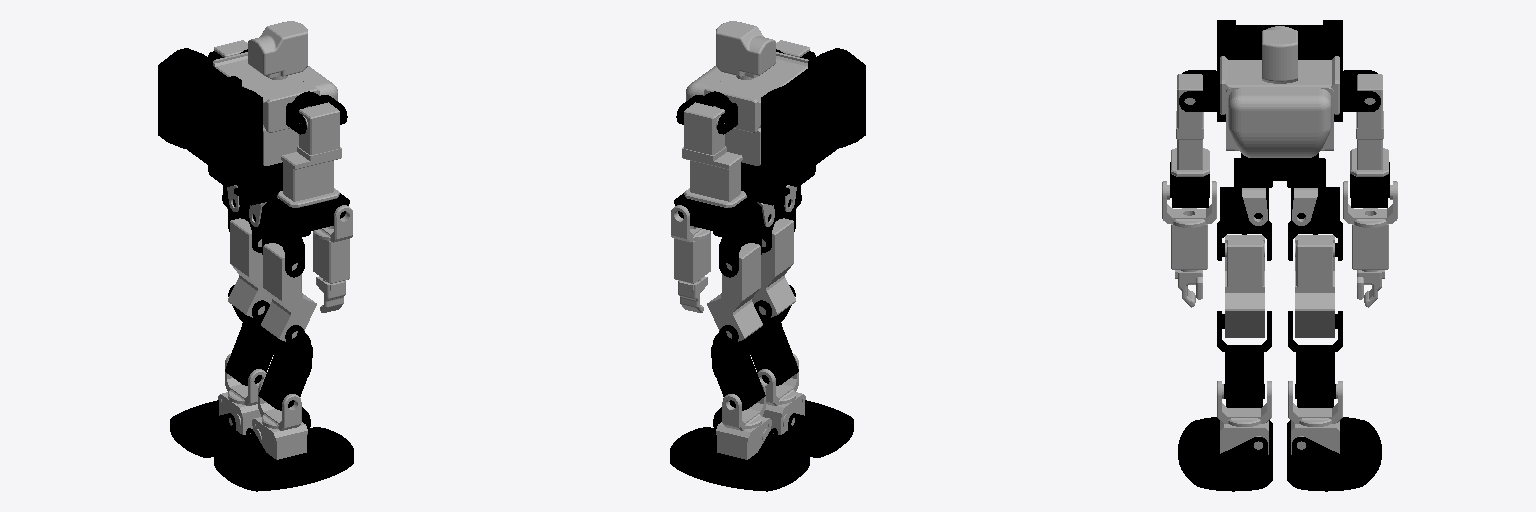
--- Render facts (derived) ---
3 views of the same robot in one strip: view 1: azimuth 30°, elevation 25°; view 2: azimuth 150°, elevation 25°; view 3: azimuth 270°, elevation 25° (orthographic).
Model khr3_001 with 25 links and 24 joints (22 revolute, 2 fixed), rooted at base_link, posed all joints at 0.
Visible links, largest first — view 1: c_chest_b, r_foot, r_upperarm, r_upperleg, r_lowerarm, l_foot, r_lowerleg, c_head_a, c_chest_c, r_ankle, l_upperleg, l_lowerleg (+7 smaller); view 2: c_chest_b, l_foot, l_upperarm, l_upperleg, l_lowerarm, r_foot, l_lowerleg, c_chest_c, c_head_a, l_ankle, r_upperleg, r_lowerleg (+7 smaller); view 3: c_chest_a, l_foot, r_foot, l_upperleg, r_upperleg, c_chest_b, l_lowerarm, r_lowerarm, l_lowerleg, r_lowerleg, c_chest_c, base_link (+13 smaller).
Boxes of the visible links, x1=… form: c_chest_b: x1=158, y1=48, x2=262, y2=184; r_foot: x1=214, y1=427, x2=353, y2=491; r_upperarm: x1=277, y1=102, x2=341, y2=207; r_upperleg: x1=261, y1=243, x2=316, y2=341; r_lowerarm: x1=313, y1=205, x2=352, y2=312; l_foot: x1=170, y1=400, x2=310, y2=457; r_lowerleg: x1=258, y1=310, x2=312, y2=410; c_head_a: x1=248, y1=21, x2=307, y2=79; c_chest_c: x1=213, y1=52, x2=319, y2=132; r_ankle: x1=252, y1=378, x2=307, y2=459; l_upperleg: x1=228, y1=218, x2=271, y2=317; l_lowerleg: x1=225, y1=285, x2=275, y2=385; c_chest_b: x1=761, y1=48, x2=865, y2=184; l_foot: x1=670, y1=427, x2=809, y2=491; l_upperarm: x1=682, y1=102, x2=746, y2=207; l_upperleg: x1=707, y1=243, x2=762, y2=341; l_lowerarm: x1=671, y1=205, x2=710, y2=312; r_foot: x1=713, y1=400, x2=853, y2=457; l_lowerleg: x1=711, y1=310, x2=765, y2=410; c_chest_c: x1=704, y1=52, x2=808, y2=132; c_head_a: x1=716, y1=21, x2=775, y2=79; l_ankle: x1=716, y1=378, x2=771, y2=459; r_upperleg: x1=752, y1=218, x2=795, y2=317; r_lowerleg: x1=748, y1=285, x2=798, y2=385; c_chest_a: x1=1226, y1=87, x2=1333, y2=157; l_foot: x1=1287, y1=417, x2=1381, y2=491; r_foot: x1=1178, y1=417, x2=1272, y2=491; l_upperleg: x1=1295, y1=235, x2=1334, y2=337; r_upperleg: x1=1225, y1=235, x2=1264, y2=337; c_chest_b: x1=1217, y1=20, x2=1342, y2=121; l_lowerarm: x1=1343, y1=181, x2=1397, y2=307; r_lowerarm: x1=1162, y1=181, x2=1216, y2=307; l_lowerleg: x1=1288, y1=311, x2=1342, y2=407; r_lowerleg: x1=1217, y1=311, x2=1271, y2=407; c_chest_c: x1=1220, y1=56, x2=1339, y2=150; base_link: x1=1234, y1=153, x2=1325, y2=187.
Bounding box of the posed robot: 0.1356 × 0.1943 × 0.3987 m (x, y, z).
Meshes: 25 distinct files referenced, 25 mesh visuals loaded (25 binary STL).

The robot description file, URDF, robot "khr3_001":
<?xml version="1.0" ?>
<!-- =================================================================================== -->
<!-- |    This document was autogenerated by xacro from khr3_001b.xacro                | -->
<!-- |    EDITING THIS FILE BY HAND IS NOT RECOMMENDED                                 | -->
<!-- =================================================================================== -->
<robot name="khr3_001">
  <material name="silver">
    <color rgba="0.700 0.700 0.700 1.000"/>
  </material>
  <material name="white">
    <color rgba="1.0 1.0 1.0 1.0"/>
  </material>
  <material name="black">
    <color rgba="0.0 0.0 0.0 1.0"/>
  </material>
  <transmission name="c_chest_yaw_tran" type="SimpleTransmission">
    <type>transmission_interface/SimpleTransmission</type>
    <joint name="c_chest_yaw">
      <hardwareInterface>hardware_interface/PositionJointInterface</hardwareInterface>
    </joint>
    <actuator name="c_chest_yaw_actr">
      <hardwareInterface>hardware_interface/PositionJointInterface</hardwareInterface>
      <mechanicalReduction>1</mechanicalReduction>
    </actuator>
  </transmission>
  <transmission name="c_head_yaw_tran" type="SimpleTransmission">
    <type>transmission_interface/SimpleTransmission</type>
    <joint name="c_head_yaw">
      <hardwareInterface>hardware_interface/PositionJointInterface</hardwareInterface>
    </joint>
    <actuator name="c_head_yaw_actr">
      <hardwareInterface>hardware_interface/PositionJointInterface</hardwareInterface>
      <mechanicalReduction>1</mechanicalReduction>
    </actuator>
  </transmission>
  <transmission name="l_shoulder_pitch_tran" type="SimpleTransmission">
    <type>transmission_interface/SimpleTransmission</type>
    <joint name="l_shoulder_pitch">
      <hardwareInterface>hardware_interface/PositionJointInterface</hardwareInterface>
    </joint>
    <actuator name="l_shoulder_pitch_actr">
      <hardwareInterface>hardware_interface/PositionJointInterface</hardwareInterface>
      <mechanicalReduction>1</mechanicalReduction>
    </actuator>
  </transmission>
  <transmission name="l_shoulder_roll_tran" type="SimpleTransmission">
    <type>transmission_interface/SimpleTransmission</type>
    <joint name="l_shoulder_roll">
      <hardwareInterface>hardware_interface/PositionJointInterface</hardwareInterface>
    </joint>
    <actuator name="l_shoulder_roll_actr">
      <hardwareInterface>hardware_interface/PositionJointInterface</hardwareInterface>
      <mechanicalReduction>1</mechanicalReduction>
    </actuator>
  </transmission>
  <transmission name="l_elbow_yaw_tran" type="SimpleTransmission">
    <type>transmission_interface/SimpleTransmission</type>
    <joint name="l_elbow_yaw">
      <hardwareInterface>hardware_interface/PositionJointInterface</hardwareInterface>
    </joint>
    <actuator name="l_elbow_yaw_actr">
      <hardwareInterface>hardware_interface/PositionJointInterface</hardwareInterface>
      <mechanicalReduction>1</mechanicalReduction>
    </actuator>
  </transmission>
  <transmission name="l_elbow_pitch_tran" type="SimpleTransmission">
    <type>transmission_interface/SimpleTransmission</type>
    <joint name="l_elbow_pitch">
      <hardwareInterface>hardware_interface/PositionJointInterface</hardwareInterface>
    </joint>
    <actuator name="l_elbow_pitch_actr">
      <hardwareInterface>hardware_interface/PositionJointInterface</hardwareInterface>
      <mechanicalReduction>1</mechanicalReduction>
    </actuator>
  </transmission>
  <transmission name="r_shoulder_pitch_tran" type="SimpleTransmission">
    <type>transmission_interface/SimpleTransmission</type>
    <joint name="r_shoulder_pitch">
      <hardwareInterface>hardware_interface/PositionJointInterface</hardwareInterface>
    </joint>
    <actuator name="r_shoulder_pitch_actr">
      <hardwareInterface>hardware_interface/PositionJointInterface</hardwareInterface>
      <mechanicalReduction>1</mechanicalReduction>
    </actuator>
  </transmission>
  <transmission name="r_shoulder_roll_tran" type="SimpleTransmission">
    <type>transmission_interface/SimpleTransmission</type>
    <joint name="r_shoulder_roll">
      <hardwareInterface>hardware_interface/PositionJointInterface</hardwareInterface>
    </joint>
    <actuator name="r_shoulder_roll_actr">
      <hardwareInterface>hardware_interface/PositionJointInterface</hardwareInterface>
      <mechanicalReduction>1</mechanicalReduction>
    </actuator>
  </transmission>
  <transmission name="r_elbow_yaw_tran" type="SimpleTransmission">
    <type>transmission_interface/SimpleTransmission</type>
    <joint name="r_elbow_yaw">
      <hardwareInterface>hardware_interface/PositionJointInterface</hardwareInterface>
    </joint>
    <actuator name="r_elbow_yaw_actr">
      <hardwareInterface>hardware_interface/PositionJointInterface</hardwareInterface>
      <mechanicalReduction>1</mechanicalReduction>
    </actuator>
  </transmission>
  <transmission name="r_elbow_pitch_tran" type="SimpleTransmission">
    <type>transmission_interface/SimpleTransmission</type>
    <joint name="r_elbow_pitch">
      <hardwareInterface>hardware_interface/PositionJointInterface</hardwareInterface>
    </joint>
    <actuator name="r_elbow_pitch_actr">
      <hardwareInterface>hardware_interface/PositionJointInterface</hardwareInterface>
      <mechanicalReduction>1</mechanicalReduction>
    </actuator>
  </transmission>
  <transmission name="l_hipjoint_yaw_tran" type="SimpleTransmission">
    <type>transmission_interface/SimpleTransmission</type>
    <joint name="l_hipjoint_yaw">
      <hardwareInterface>hardware_interface/PositionJointInterface</hardwareInterface>
    </joint>
    <actuator name="l_hipjoint_yaw_actr">
      <hardwareInterface>hardware_interface/PositionJointInterface</hardwareInterface>
      <mechanicalReduction>1</mechanicalReduction>
    </actuator>
  </transmission>
  <transmission name="l_hipjoint_roll_tran" type="SimpleTransmission">
    <type>transmission_interface/SimpleTransmission</type>
    <joint name="l_hipjoint_roll">
      <hardwareInterface>hardware_interface/PositionJointInterface</hardwareInterface>
    </joint>
    <actuator name="l_hipjoint_roll_actr">
      <hardwareInterface>hardware_interface/PositionJointInterface</hardwareInterface>
      <mechanicalReduction>1</mechanicalReduction>
    </actuator>
  </transmission>
  <transmission name="l_hipjoint_pitch_tran" type="SimpleTransmission">
    <type>transmission_interface/SimpleTransmission</type>
    <joint name="l_hipjoint_pitch">
      <hardwareInterface>hardware_interface/PositionJointInterface</hardwareInterface>
    </joint>
    <actuator name="l_hipjoint_pitch_actr">
      <hardwareInterface>hardware_interface/PositionJointInterface</hardwareInterface>
      <mechanicalReduction>1</mechanicalReduction>
    </actuator>
  </transmission>
  <transmission name="l_knee_pitch_tran" type="SimpleTransmission">
    <type>transmission_interface/SimpleTransmission</type>
    <joint name="l_knee_pitch">
      <hardwareInterface>hardware_interface/PositionJointInterface</hardwareInterface>
    </joint>
    <actuator name="l_knee_pitch_actr">
      <hardwareInterface>hardware_interface/PositionJointInterface</hardwareInterface>
      <mechanicalReduction>1</mechanicalReduction>
    </actuator>
  </transmission>
  <transmission name="l_ankle_pitch_tran" type="SimpleTransmission">
    <type>transmission_interface/SimpleTransmission</type>
    <joint name="l_ankle_pitch">
      <hardwareInterface>hardware_interface/PositionJointInterface</hardwareInterface>
    </joint>
    <actuator name="l_ankle_pitch_actr">
      <hardwareInterface>hardware_interface/PositionJointInterface</hardwareInterface>
      <mechanicalReduction>1</mechanicalReduction>
    </actuator>
  </transmission>
  <transmission name="l_ankle_roll_tran" type="SimpleTransmission">
    <type>transmission_interface/SimpleTransmission</type>
    <joint name="l_ankle_roll">
      <hardwareInterface>hardware_interface/PositionJointInterface</hardwareInterface>
    </joint>
    <actuator name="l_ankle_roll_actr">
      <hardwareInterface>hardware_interface/PositionJointInterface</hardwareInterface>
      <mechanicalReduction>1</mechanicalReduction>
    </actuator>
  </transmission>
  <transmission name="r_hipjoint_yaw_tran" type="SimpleTransmission">
    <type>transmission_interface/SimpleTransmission</type>
    <joint name="r_hipjoint_yaw">
      <hardwareInterface>hardware_interface/PositionJointInterface</hardwareInterface>
    </joint>
    <actuator name="r_hipjoint_yaw_actr">
      <hardwareInterface>hardware_interface/PositionJointInterface</hardwareInterface>
      <mechanicalReduction>1</mechanicalReduction>
    </actuator>
  </transmission>
  <transmission name="r_hipjoint_roll_tran" type="SimpleTransmission">
    <type>transmission_interface/SimpleTransmission</type>
    <joint name="r_hipjoint_roll">
      <hardwareInterface>hardware_interface/PositionJointInterface</hardwareInterface>
    </joint>
    <actuator name="r_hipjoint_roll_actr">
      <hardwareInterface>hardware_interface/PositionJointInterface</hardwareInterface>
      <mechanicalReduction>1</mechanicalReduction>
    </actuator>
  </transmission>
  <transmission name="r_hipjoint_pitch_tran" type="SimpleTransmission">
    <type>transmission_interface/SimpleTransmission</type>
    <joint name="r_hipjoint_pitch">
      <hardwareInterface>hardware_interface/PositionJointInterface</hardwareInterface>
    </joint>
    <actuator name="r_hipjoint_pitch_actr">
      <hardwareInterface>hardware_interface/PositionJointInterface</hardwareInterface>
      <mechanicalReduction>1</mechanicalReduction>
    </actuator>
  </transmission>
  <transmission name="r_knee_pitch_tran" type="SimpleTransmission">
    <type>transmission_interface/SimpleTransmission</type>
    <joint name="r_knee_pitch">
      <hardwareInterface>hardware_interface/PositionJointInterface</hardwareInterface>
    </joint>
    <actuator name="r_knee_pitch_actr">
      <hardwareInterface>hardware_interface/PositionJointInterface</hardwareInterface>
      <mechanicalReduction>1</mechanicalReduction>
    </actuator>
  </transmission>
  <transmission name="r_ankle_pitch_tran" type="SimpleTransmission">
    <type>transmission_interface/SimpleTransmission</type>
    <joint name="r_ankle_pitch">
      <hardwareInterface>hardware_interface/PositionJointInterface</hardwareInterface>
    </joint>
    <actuator name="r_ankle_pitch_actr">
      <hardwareInterface>hardware_interface/PositionJointInterface</hardwareInterface>
      <mechanicalReduction>1</mechanicalReduction>
    </actuator>
  </transmission>
  <transmission name="r_ankle_roll_tran" type="SimpleTransmission">
    <type>transmission_interface/SimpleTransmission</type>
    <joint name="r_ankle_roll">
      <hardwareInterface>hardware_interface/PositionJointInterface</hardwareInterface>
    </joint>
    <actuator name="r_ankle_roll_actr">
      <hardwareInterface>hardware_interface/PositionJointInterface</hardwareInterface>
      <mechanicalReduction>1</mechanicalReduction>
    </actuator>
  </transmission>
  <!-- <gazebo>
  <plugin name="control" filename="libgazebo_ros_control.so"/>
</gazebo> -->
  <gazebo>
    <!-- Do I have to write it down? -->
    <plugin filename="libgazebo_ros_control.so" name="gazebo_ros_control">
      <robotNamespace>/khr3_001</robotNamespace>
      <robotSimType>gazebo_ros_control/DefaultRobotHWSim</robotSimType>
    </plugin>
  </gazebo>
  <gazebo reference="base_link">
    <material>Gazebo/Silver</material>
    <mu1>0.2</mu1>
    <mu2>0.2</mu2>
    <selfCollide>true</selfCollide>
    <gravity>true</gravity>
  </gazebo>
  <gazebo reference="c_chest_c">
    <material>Gazebo/Silver</material>
    <mu1>0.2</mu1>
    <mu2>0.2</mu2>
    <selfCollide>true</selfCollide>
  </gazebo>
  <gazebo reference="c_chest_b">
    <material>Gazebo/Silver</material>
    <mu1>0.2</mu1>
    <mu2>0.2</mu2>
    <selfCollide>true</selfCollide>
  </gazebo>
  <gazebo reference="c_chest_a">
    <material>Gazebo/Silver</material>
    <mu1>0.2</mu1>
    <mu2>0.2</mu2>
    <selfCollide>true</selfCollide>
  </gazebo>
  <gazebo reference="c_head_a">
    <material>Gazebo/Silver</material>
    <mu1>0.2</mu1>
    <mu2>0.2</mu2>
    <selfCollide>true</selfCollide>
  </gazebo>
  <gazebo reference="l_shoulder">
    <material>Gazebo/Silver</material>
    <mu1>0.2</mu1>
    <mu2>0.2</mu2>
    <selfCollide>true</selfCollide>
  </gazebo>
  <gazebo reference="l_upperarm">
    <material>Gazebo/Silver</material>
    <mu1>0.2</mu1>
    <mu2>0.2</mu2>
    <selfCollide>true</selfCollide>
  </gazebo>
  <gazebo reference="l_elbow">
    <material>Gazebo/Silver</material>
    <mu1>0.2</mu1>
    <mu2>0.2</mu2>
    <selfCollide>true</selfCollide>
  </gazebo>
  <gazebo reference="l_lowerarm">
    <material>Gazebo/Silver</material>
    <mu1>0.2</mu1>
    <mu2>0.2</mu2>
    <selfCollide>true</selfCollide>
  </gazebo>
  <gazebo reference="r_shoulder">
    <material>Gazebo/Silver</material>
    <mu1>0.2</mu1>
    <mu2>0.2</mu2>
    <selfCollide>true</selfCollide>
  </gazebo>
  <gazebo reference="r_upperarm">
    <material>Gazebo/Silver</material>
    <mu1>0.2</mu1>
    <mu2>0.2</mu2>
    <selfCollide>true</selfCollide>
  </gazebo>
  <gazebo reference="r_elbow">
    <material>Gazebo/Silver</material>
    <mu1>0.2</mu1>
    <mu2>0.2</mu2>
    <selfCollide>true</selfCollide>
  </gazebo>
  <gazebo reference="r_lowerarm">
    <material>Gazebo/Silver</material>
    <mu1>0.2</mu1>
    <mu2>0.2</mu2>
    <selfCollide>true</selfCollide>
  </gazebo>
  <gazebo reference="l_hipjointupper">
    <material>Gazebo/Silver</material>
    <mu1>0.2</mu1>
    <mu2>0.2</mu2>
    <selfCollide>true</selfCollide>
  </gazebo>
  <gazebo reference="l_hipjointlower">
    <material>Gazebo/Silver</material>
    <mu1>0.2</mu1>
    <mu2>0.2</mu2>
    <selfCollide>true</selfCollide>
  </gazebo>
  <gazebo reference="l_upperleg">
    <material>Gazebo/Silver</material>
    <mu1>0.2</mu1>
    <mu2>0.2</mu2>
    <selfCollide>true</selfCollide>
  </gazebo>
  <gazebo reference="l_lowerleg">
    <material>Gazebo/Silver</material>
    <mu1>0.2</mu1>
    <mu2>0.2</mu2>
    <selfCollide>true</selfCollide>
  </gazebo>
  <gazebo reference="l_ankle">
    <material>Gazebo/Silver</material>
    <mu1>0.2</mu1>
    <mu2>0.2</mu2>
    <selfCollide>true</selfCollide>
  </gazebo>
  <gazebo reference="l_foot">
    <material>Gazebo/Silver</material>
    <mu1>1</mu1>
    <mu2>1</mu2>
    <selfCollide>true</selfCollide>
  </gazebo>
  <gazebo reference="r_hipjointupper">
    <material>Gazebo/Silver</material>
    <mu1>0.2</mu1>
    <mu2>0.2</mu2>
    <selfCollide>true</selfCollide>
  </gazebo>
  <gazebo reference="r_hipjointlower">
    <material>Gazebo/Silver</material>
    <mu1>0.2</mu1>
    <mu2>0.2</mu2>
    <selfCollide>true</selfCollide>
  </gazebo>
  <gazebo reference="r_upperleg">
    <material>Gazebo/Silver</material>
    <mu1>0.2</mu1>
    <mu2>0.2</mu2>
    <selfCollide>true</selfCollide>
  </gazebo>
  <gazebo reference="r_lowerleg">
    <material>Gazebo/Silver</material>
    <mu1>0.2</mu1>
    <mu2>0.2</mu2>
    <selfCollide>true</selfCollide>
  </gazebo>
  <gazebo reference="r_ankle">
    <material>Gazebo/Silver</material>
    <mu1>0.2</mu1>
    <mu2>0.2</mu2>
    <selfCollide>true</selfCollide>
  </gazebo>
  <gazebo reference="r_foot">
    <material>Gazebo/Silver</material>
    <mu1>1</mu1>
    <mu2>1</mu2>
    <selfCollide>true</selfCollide>
  </gazebo>
  <!-- Description of robot -->
  <link name="base_link">
    <inertial>
      <origin rpy="0 0 0" xyz="-0.0004860989233068058 0.009532810756286874 0.01338898"/>
      <mass value="0.26484"/>
      <inertia ixx="6.3e-05" ixy="0.0" ixz="-0.0" iyy="3.6e-05" iyz="-0.0" izz="6.8e-05"/>
    </inertial>
    <visual>
      <origin rpy="0 0 0" xyz="0 0 0"/>
      <geometry>
        <mesh filename="package://khr3_fixed/meshes/base_link.stl" scale="0.001 0.001 0.001"/>
      </geometry>
      <material name="black"/>
    </visual>
    <collision>
      <origin rpy="0 0 0" xyz="0 0 0"/>
      <geometry>
        <mesh filename="package://khr3_fixed/meshes/base_link.stl" scale="0.001 0.001 0.001"/>
      </geometry>
    </collision>
  </link>
  <link name="c_chest_c">
    <inertial>
      <origin rpy="0 0 0" xyz="-9.07564737343998e-05 -4.299695898109246e-08 0.04371354326547944"/>
      <mass value="0.18589"/>
      <inertia ixx="0.000158" ixy="0.0" ixz="0.0" iyy="6.6e-05" iyz="-0.0" izz="0.000176"/>
    </inertial>
    <visual>
      <origin rpy="0 0 0" xyz="0 0 0"/>
      <geometry>
        <mesh filename="package://khr3_fixed/meshes/c_chest_c.stl" scale="0.001 0.001 0.001"/>
      </geometry>
      <material name="silver"/>
    </visual>
    <collision>
      <origin rpy="0 0 0" xyz="0 0 0"/>
      <geometry>
        <mesh filename="package://khr3_fixed/meshes/c_chest_c.stl" scale="0.001 0.001 0.001"/>
      </geometry>
    </collision>
  </link>
  <link name="c_chest_b">
    <inertial>
      <origin rpy="0 0 0" xyz="-0.027362562372520854 2.840518613928325e-06 0.004477857770456339"/>
      <mass value="0.08659748664099903"/>
      <inertia ixx="0.000118" ixy="0.0" ixz="0.0" iyy="5.2e-05" iyz="0.0" izz="9.8e-05"/>
    </inertial>
    <visual>
      <origin rpy="0 0 0" xyz="0 0 0"/>
      <geometry>
        <mesh filename="package://khr3_fixed/meshes/c_chest_b.stl" scale="0.001 0.001 0.001"/>
      </geometry>
      <material name="black"/>
    </visual>
    <collision>
      <origin rpy="0 0 0" xyz="0 0 0"/>
      <geometry>
        <mesh filename="package://khr3_fixed/meshes/c_chest_b.stl" scale="0.001 0.001 0.001"/>
      </geometry>
    </collision>
  </link>
  <link name="c_chest_a">
    <inertial>
      <origin rpy="0 0 0" xyz="0.004546800382866728 -4.1161282904669805e-08 -0.0024788373011201403"/>
      <mass value="0.033763915303500654"/>
      <inertia ixx="3.4e-05" ixy="-0.0" ixz="-3e-06" iyy="1.9e-05" iyz="0.0" izz="3.6e-05"/>
    </inertial>
    <visual>
      <origin rpy="0 0 0" xyz="0 0 0"/>
      <geometry>
        <mesh filename="package://khr3_fixed/meshes/c_chest_a.stl" scale="0.001 0.001 0.001"/>
      </geometry>
      <material name="silver"/>
    </visual>
    <collision>
      <origin rpy="0 0 0" xyz="0 0 0"/>
      <geometry>
        <mesh filename="package://khr3_fixed/meshes/c_chest_a.stl" scale="0.001 0.001 0.001"/>
      </geometry>
    </collision>
  </link>
  <link name="c_head_a">
    <inertial>
      <origin rpy="0 0 0" xyz="0.003079433021973575 -4.3073247395913894e-08 0.022888877386975093"/>
      <mass value="0.012778861662402228"/>
      <inertia ixx="2e-06" ixy="-0.0" ixz="-0.0" iyy="4e-06" iyz="0.0" izz="3e-06"/>
    </inertial>
    <visual>
      <origin rpy="0 0 0" xyz="0 0 0"/>
      <geometry>
        <mesh filename="package://khr3_fixed/meshes/c_head_a.stl" scale="0.001 0.001 0.001"/>
      </geometry>
      <material name="silver"/>
    </visual>
    <collision>
      <origin rpy="0 0 0" xyz="0 0 0"/>
      <geometry>
        <mesh filename="package://khr3_fixed/meshes/c_head_a.stl" scale="0.001 0.001 0.001"/>
      </geometry>
    </collision>
  </link>
  <link name="l_shoulder">
    <inertial>
      <origin rpy="0 0 0" xyz="0.00016940373751364937 0.008747288709026461 3.2529534621517087e-14"/>
      <mass value="0.012120367829212707"/>
      <inertia ixx="1e-06" ixy="-0.0" ixz="0.0" iyy="4e-06" iyz="0.0" izz="4e-06"/>
    </inertial>
    <visual>
      <origin rpy="0 0 0" xyz="0 0 0"/>
      <geometry>
        <mesh filename="package://khr3_fixed/meshes/l_shoulder_v5.stl" scale="0.001 0.001 0.001"/>
      </geometry>
      <material name="black"/>
    </visual>
    <collision>
      <origin rpy="0 0 0" xyz="0 0 0"/>
      <geometry>
        <mesh filename="package://khr3_fixed/meshes/l_shoulder_v5.stl" scale="0.001 0.001 0.001"/>
      </geometry>
    </collision>
  </link>
  <link name="l_upperarm">
    <inertial>
      <origin rpy="0 0 0" xyz="-0.02256531849252991 -4.2996961130414846e-08 -0.03564584515249991"/>
      <mass value="0.09077338253436838"/>
      <inertia ixx="5.4e-05" ixy="0.0" ixz="-1e-05" iyy="6.4e-05" iyz="0.0" izz="1.8e-05"/>
    </inertial>
    <visual>
      <origin rpy="0 0 0" xyz="0 0 0"/>
      <geometry>
        <mesh filename="package://khr3_fixed/meshes/l_upperarm_v4.stl" scale="0.001 0.001 0.001"/>
      </geometry>
      <material name="silver"/>
    </visual>
    <collision>
      <origin rpy="0 0 0" xyz="0 0 0"/>
      <geometry>
        <mesh filename="package://khr3_fixed/meshes/l_upperarm_v4.stl" scale="0.001 0.001 0.001"/>
      </geometry>
    </collision>
  </link>
  <link name="l_elbow">
    <inertial>
      <origin rpy="0 0 0" xyz="5.745484729775818e-05 -4.299695875731313e-08 -0.012574921301198305"/>
      <mass value="0.044771268874731644"/>
      <inertia ixx="6e-06" ixy="0.0" ixz="0.0" iyy="8e-06" iyz="-0.0" izz="1e-05"/>
    </inertial>
    <visual>
      <origin rpy="0 0 0" xyz="0 0 0"/>
      <geometry>
        <mesh filename="package://khr3_fixed/meshes/l_elbow_v4.stl" scale="0.001 0.001 0.001"/>
      </geometry>
      <material name="black"/>
    </visual>
    <collision>
      <origin rpy="0 0 0" xyz="0 0 0"/>
      <geometry>
        <mesh filename="package://khr3_fixed/meshes/l_elbow_v4.stl" scale="0.001 0.001 0.001"/>
      </geometry>
    </collision>
  </link>
  <link name="l_lowerarm">
    <inertial>
      <origin rpy="0 0 0" xyz="0.00017641899363149416 -0.0156924274010031 -0.04569649848488025"/>
      <mass value="0.02983803452815617"/>
      <inertia ixx="1.8e-05" ixy="0.0" ixz="0.0" iyy="1.6e-05" iyz="-0.0" izz="4e-06"/>
    </inertial>
    <visual>
      <origin rpy="0 0 0" xyz="0 0 0"/>
      <geometry>
        <mesh filename="package://khr3_fixed/meshes/l_lowerarm_v7.stl" scale="0.001 0.001 0.001"/>
      </geometry>
      <material name="silver"/>
    </visual>
    <collision>
      <origin rpy="0 0 0" xyz="0 0 0"/>
      <geometry>
        <mesh filename="package://khr3_fixed/meshes/l_lowerarm_v7.stl" scale="0.001 0.001 0.001"/>
      </geometry>
    </collision>
  </link>
  <link name="r_shoulder">
    <inertial>
      <origin rpy="0 0 0" xyz="0.00016940373733528857 -0.008747374702943796 5.306866057708248e-14"/>
      <mass value="0.01212036782921271"/>
      <inertia ixx="1e-06" ixy="0.0" ixz="-0.0" iyy="4e-06" iyz="0.0" izz="4e-06"/>
    </inertial>
    <visual>
      <origin rpy="0 0 0" xyz="0 0 0"/>
      <geometry>
        <mesh filename="package://khr3_fixed/meshes/r_shoulder_v4.stl" scale="0.001 0.001 0.001"/>
      </geometry>
      <material name="black"/>
    </visual>
    <collision>
      <origin rpy="0 0 0" xyz="0 0 0"/>
      <geometry>
        <mesh filename="package://khr3_fixed/meshes/r_shoulder_v4.stl" scale="0.001 0.001 0.001"/>
      </geometry>
    </collision>
  </link>
  <link name="r_upperarm">
    <inertial>
      <origin rpy="0 0 0" xyz="-0.022565318492529688 -4.2996961074903695e-08 -0.03564584515249991"/>
      <mass value="0.09077338253436838"/>
      <inertia ixx="5.4e-05" ixy="0.0" ixz="-1e-05" iyy="6.4e-05" iyz="0.0" izz="1.8e-05"/>
    </inertial>
    <visual>
      <origin rpy="0 0 0" xyz="0 0 0"/>
      <geometry>
        <mesh filename="package://khr3_fixed/meshes/r_upperarm_v3.stl" scale="0.001 0.001 0.001"/>
      </geometry>
      <material name="silver"/>
    </visual>
    <collision>
      <origin rpy="0 0 0" xyz="0 0 0"/>
      <geometry>
        <mesh filename="package://khr3_fixed/meshes/r_upperarm_v3.stl" scale="0.001 0.001 0.001"/>
      </geometry>
    </collision>
  </link>
  <link name="r_elbow">
    <inertial>
      <origin rpy="0 0 0" xyz="5.7454847330103836e-05 -4.2996958674046404e-08 -0.012574921301198305"/>
      <mass value="0.044771268874731526"/>
      <inertia ixx="6e-06" ixy="0.0" ixz="0.0" iyy="8e-06" iyz="-0.0" izz="1e-05"/>
    </inertial>
    <visual>
      <origin rpy="0 0 0" xyz="0 0 0"/>
      <geometry>
        <mesh filename="package://khr3_fixed/meshes/r_elbow_v4.stl" scale="0.001 0.001 0.001"/>
      </geometry>
      <material name="black"/>
    </visual>
    <collision>
      <origin rpy="0 0 0" xyz="0 0 0"/>
      <geometry>
        <mesh filename="package://khr3_fixed/meshes/r_elbow_v4.stl" scale="0.001 0.001 0.001"/>
      </geometry>
    </collision>
  </link>
  <link name="r_lowerarm">
    <inertial>
      <origin rpy="0 0 0" xyz="0.00017641899364317232 0.01569234140705124 -0.04569649848495705"/>
      <mass value="0.029838034528201704"/>
      <inertia ixx="1.8e-05" ixy="-0.0" ixz="0.0" iyy="1.6e-05" iyz="0.0" izz="4e-06"/>
    </inertial>
    <visual>
      <origin rpy="0 0 0" xyz="0 0 0"/>
      <geometry>
        <mesh filename="package://khr3_fixed/meshes/r_lowerarm_v5.stl" scale="0.001 0.001 0.001"/>
      </geometry>
      <material name="silver"/>
    </visual>
    <collision>
      <origin rpy="0 0 0" xyz="0 0 0"/>
      <geometry>
        <mesh filename="package://khr3_fixed/meshes/r_lowerarm_v5.stl" scale="0.001 0.001 0.001"/>
      </geometry>
    </collision>
  </link>
  <link name="l_hipjointupper">
    <inertial>
      <origin rpy="0 0 0" xyz="3.293764515496962e-05 -0.0011113374509284651 -0.007400199793976242"/>
      <mass value="0.005702042499396512"/>
      <inertia ixx="1e-06" ixy="0.0" ixz="0.0" iyy="2e-06" iyz="-0.0" izz="2e-06"/>
    </inertial>
    <visual>
      <origin rpy="0 0 0" xyz="0 0 0"/>
      <geometry>
        <mesh filename="package://khr3_fixed/meshes/l_hipjointupper_v4.stl" scale="0.001 0.001 0.001"/>
      </geometry>
      <material name="silver"/>
    </visual>
    <collision>
      <origin rpy="0 0 0" xyz="0 0 0"/>
      <geometry>
        <mesh filename="package://khr3_fixed/meshes/l_hipjointupper_v4.stl" scale="0.001 0.001 0.001"/>
      </geometry>
    </collision>
  </link>
  <link name="l_hipjointlower">
    <inertial>
      <origin rpy="0 0 0" xyz="-0.016250242301438553 0.011463181378816707 -0.0066539419866288585"/>
      <mass value="0.06689532645492419"/>
      <inertia ixx="2e-05" ixy="0.0" ixz="-0.0" iyy="1.4e-05" iyz="0.0" izz="1.5e-05"/>
    </inertial>
    <visual>
      <origin rpy="0 0 0" xyz="0 0 0"/>
      <geometry>
        <mesh filename="package://khr3_fixed/meshes/l_hipjointlower_v4.stl" scale="0.001 0.001 0.001"/>
      </geometry>
      <material name="black"/>
    </visual>
    <collision>
      <origin rpy="0 0 0" xyz="0 0 0"/>
      <geometry>
        <mesh filename="package://khr3_fixed/meshes/l_hipjointlower_v4.stl" scale="0.001 0.001 0.001"/>
      </geometry>
    </collision>
  </link>
  <link name="l_upperleg">
    <inertial>
      <origin rpy="0 0 0" xyz="0.002589780466551929 -0.016500042996958703 -0.03375567398425394"/>
      <mass value="0.09097466003274825"/>
      <inertia ixx="5.9e-05" ixy="0.0" ixz="4e-06" iyy="5.6e-05" iyz="0.0" izz="1.3e-05"/>
    </inertial>
    <visual>
      <origin rpy="0 0 0" xyz="0 0 0"/>
      <geometry>
        <mesh filename="package://khr3_fixed/meshes/l_upperleg_v3.stl" scale="0.001 0.001 0.001"/>
      </geometry>
      <material name="silver"/>
    </visual>
    <collision>
      <origin rpy="0 0 0" xyz="0 0 0"/>
      <geometry>
        <mesh filename="package://khr3_fixed/meshes/l_upperleg_v3.stl" scale="0.001 0.001 0.001"/>
      </geometry>
    </collision>
  </link>
  <link name="l_lowerleg">
    <inertial>
      <origin rpy="0 0 0" xyz="0.0044805681524230055 -0.015970110512676966 -0.04182100713444817"/>
      <mass value="0.06094435150357522"/>
      <inertia ixx="2.9e-05" ixy="0.0" ixz="-5e-06" iyy="2.6e-05" iyz="-0.0" izz="1.1e-05"/>
    </inertial>
    <visual>
      <origin rpy="0 0 0" xyz="0 0 0"/>
      <geometry>
        <mesh filename="package://khr3_fixed/meshes/l_lowerleg_v5.stl" scale="0.001 0.001 0.001"/>
      </geometry>
      <material name="black"/>
    </visual>
    <collision>
      <origin rpy="0 0 0" xyz="0 0 0"/>
      <geometry>
        <mesh filename="package://khr3_fixed/meshes/l_lowerleg_v5.stl" scale="0.001 0.001 0.001"/>
      </geometry>
    </collision>
  </link>
  <link name="l_ankle">
    <inertial>
      <origin rpy="0 0 0" xyz="0.0001886240331466279 -0.01666391069306302 -0.03292964719213733"/>
      <mass value="0.06757551562559608"/>
      <inertia ixx="2e-05" ixy="0.0" ixz="0.0" iyy="1.4e-05" iyz="-0.0" izz="1.6e-05"/>
    </inertial>
    <visual>
      <origin rpy="0 0 0" xyz="0 0 0"/>
      <geometry>
        <mesh filename="package://khr3_fixed/meshes/l_ankle_v5.stl" scale="0.001 0.001 0.001"/>
      </geometry>
      <material name="silver"/>
    </visual>
    <collision>
      <origin rpy="0 0 0" xyz="0 0 0"/>
      <geometry>
        <mesh filename="package://khr3_fixed/meshes/l_ankle_v5.stl" scale="0.001 0.001 0.001"/>
      </geometry>
    </collision>
  </link>
  <link name="l_foot">
    <inertial>
      <origin rpy="0 0 0" xyz="-0.020700151207673705 0.023895172544662873 -0.021244534057561063"/>
      <mass value="0.03847104970565043"/>
      <inertia ixx="2.3e-05" ixy="-0.0" ixz="0.0" iyy="4.8e-05" iyz="0.0" izz="6.9e-05"/>
    </inertial>
    <visual>
      <origin rpy="0 0 0" xyz="0 0 0"/>
      <geometry>
        <mesh filename="package://khr3_fixed/meshes/l_foot_v3.stl" scale="0.001 0.001 0.001"/>
      </geometry>
      <material name="black"/>
    </visual>
    <collision>
      <origin rpy="0 0 0" xyz="0 0 0"/>
      <geometry>
        <mesh filename="package://khr3_fixed/meshes/l_foot_v3.stl" scale="0.001 0.001 0.001"/>
      </geometry>
    </collision>
  </link>
  <link name="r_hipjointupper">
    <inertial>
      <origin rpy="0 0 0" xyz="3.2937645155054623e-05 0.0011112514569246185 -0.007400199793976325"/>
      <mass value="0.005702042499396526"/>
      <inertia ixx="1e-06" ixy="-0.0" ixz="0.0" iyy="2e-06" iyz="0.0" izz="2e-06"/>
    </inertial>
    <visual>
      <origin rpy="0 0 0" xyz="0 0 0"/>
      <geometry>
        <mesh filename="package://khr3_fixed/meshes/r_hipjointupper_v4.stl" scale="0.001 0.001 0.001"/>
      </geometry>
      <material name="silver"/>
    </visual>
    <collision>
      <origin rpy="0 0 0" xyz="0 0 0"/>
      <geometry>
        <mesh filename="package://khr3_fixed/meshes/r_hipjointupper_v4.stl" scale="0.001 0.001 0.001"/>
      </geometry>
    </collision>
  </link>
  <link name="r_hipjointlower">
    <inertial>
      <origin rpy="0 0 0" xyz="-0.016250242301436166 -0.011463267372574608 -0.006653941986625556"/>
      <mass value="0.0668953264549242"/>
      <inertia ixx="2e-05" ixy="0.0" ixz="0.0" iyy="1.4e-05" iyz="-0.0" izz="1.5e-05"/>
    </inertial>
    <visual>
      <origin rpy="0 0 0" xyz="0 0 0"/>
      <geometry>
        <mesh filename="package://khr3_fixed/meshes/r_hipjointlower_v4.stl" scale="0.001 0.001 0.001"/>
      </geometry>
      <material name="black"/>
    </visual>
    <collision>
      <origin rpy="0 0 0" xyz="0 0 0"/>
      <geometry>
        <mesh filename="package://khr3_fixed/meshes/r_hipjointlower_v4.stl" scale="0.001 0.001 0.001"/>
      </geometry>
    </collision>
  </link>
  <link name="r_upperleg">
    <inertial>
      <origin rpy="0 0 0" xyz="0.0025897804665520278 0.016499957003041386 -0.03375567398425397"/>
      <mass value="0.09097466003274823"/>
      <inertia ixx="5.9e-05" ixy="-0.0" ixz="4e-06" iyy="5.6e-05" iyz="0.0" izz="1.3e-05"/>
    </inertial>
    <visual>
      <origin rpy="0 0 0" xyz="0 0 0"/>
      <geometry>
        <mesh filename="package://khr3_fixed/meshes/r_upperleg_v3.stl" scale="0.001 0.001 0.001"/>
      </geometry>
      <material name="silver"/>
    </visual>
    <collision>
      <origin rpy="0 0 0" xyz="0 0 0"/>
      <geometry>
        <mesh filename="package://khr3_fixed/meshes/r_upperleg_v3.stl" scale="0.001 0.001 0.001"/>
      </geometry>
    </collision>
  </link>
  <link name="r_lowerleg">
    <inertial>
      <origin rpy="0 0 0" xyz="0.004480568152423165 0.01597002451875967 -0.04182100713444818"/>
      <mass value="0.06094435150357523"/>
      <inertia ixx="2.9e-05" ixy="-0.0" ixz="-5e-06" iyy="2.6e-05" iyz="0.0" izz="1.1e-05"/>
    </inertial>
    <visual>
      <origin rpy="0 0 0" xyz="0 0 0"/>
      <geometry>
        <mesh filename="package://khr3_fixed/meshes/r_lowerleg_v5.stl" scale="0.001 0.001 0.001"/>
      </geometry>
      <material name="black"/>
    </visual>
    <collision>
      <origin rpy="0 0 0" xyz="0 0 0"/>
      <geometry>
        <mesh filename="package://khr3_fixed/meshes/r_lowerleg_v5.stl" scale="0.001 0.001 0.001"/>
      </geometry>
    </collision>
  </link>
  <link name="r_ankle">
    <inertial>
      <origin rpy="0 0 0" xyz="0.00018862403314765484 0.01666382469921859 -0.03292964719213813"/>
      <mass value="0.06757551562559609"/>
      <inertia ixx="2e-05" ixy="-0.0" ixz="0.0" iyy="1.4e-05" iyz="0.0" izz="1.6e-05"/>
    </inertial>
    <visual>
      <origin rpy="0 0 0" xyz="0 0 0"/>
      <geometry>
        <mesh filename="package://khr3_fixed/meshes/r_ankle_v5.stl" scale="0.001 0.001 0.001"/>
      </geometry>
      <material name="silver"/>
    </visual>
    <collision>
      <origin rpy="0 0 0" xyz="0 0 0"/>
      <geometry>
        <mesh filename="package://khr3_fixed/meshes/r_ankle_v5.stl" scale="0.001 0.001 0.001"/>
      </geometry>
    </collision>
  </link>
  <link name="r_foot">
    <inertial>
      <origin rpy="0 0 0" xyz="-0.020700151207566492 -0.023895258538579878 -0.02124453405755709"/>
      <mass value="0.03847104970565037"/>
      <inertia ixx="2.3e-05" ixy="-0.0" ixz="-0.0" iyy="4.8e-05" iyz="-0.0" izz="6.9e-05"/>
    </inertial>
    <visual>
      <origin rpy="0 0 0" xyz="0 0 0"/>
      <geometry>
        <mesh filename="package://khr3_fixed/meshes/r_foot_v3.stl" scale="0.001 0.001 0.001"/>
      </geometry>
      <material name="black"/>
    </visual>
    <collision>
      <origin rpy="0 0 0" xyz="0 0 0"/>
      <geometry>
        <mesh filename="package://khr3_fixed/meshes/r_foot_v3.stl" scale="0.001 0.001 0.001"/>
      </geometry>
    </collision>
  </link>
  <!-- continuous <-> revolute -->
  <joint name="c_chest_yaw" type="revolute">
    <origin rpy="0 0 0" xyz="0 0 0.039"/>
    <parent link="base_link"/>
    <child link="c_chest_c"/>
    <axis xyz="0.0 0.0 1.0"/>
    <limit effort="1.373" lower="-0.6981317008" upper="0.6981317008" velocity="7.4800"/>
  </joint>
  <joint name="intrgration_01" type="fixed">
    <origin rpy="0 0 0" xyz="-0.026 0.0 0.03125"/>
    <parent link="c_chest_c"/>
    <child link="c_chest_b"/>
  </joint>
  <joint name="intrgration_02" type="fixed">
    <origin rpy="0 0 0" xyz="0.026 0.0 0.03125"/>
    <parent link="c_chest_c"/>
    <child link="c_chest_a"/>
  </joint>
  <joint name="l_shoulder_pitch" type="revolute">
    <origin rpy="0 0 0" xyz="0.0115 0.0489 0.04775"/>
    <parent link="c_chest_c"/>
    <child link="l_shoulder"/>
    <axis xyz="0.0 1.0 0.0"/>
    <limit effort="1.373" lower="-2.443461" upper="2.443461" velocity="7.4800"/>
  </joint>
  <joint name="l_shoulder_roll" type="revolute">
    <origin rpy="0 0 0" xyz="0.01575 0.025 0.0"/>
    <parent link="l_shoulder"/>
    <child link="l_upperarm"/>
    <axis xyz="1.0 0.0 0.0"/>
    <limit effort="1.373" lower="-0.0872664626" upper="3.141592654" velocity="7.4800"/>
  </joint>
  <joint name="l_elbow_yaw" type="revolute">
    <origin rpy="0 0 0" xyz="-0.016 0.0 -0.07175"/>
    <parent link="l_upperarm"/>
    <child link="l_elbow"/>
    <axis xyz="0.0 0.0 1.0"/>
    <limit effort="1.373" lower="-1.5707963267948966" upper="1.5707963267948966" velocity="7.4800"/>
  </joint>
  <joint name="l_elbow_pitch" type="revolute">
    <origin rpy="0 0 0" xyz="0.0115 0.01625 -0.0145"/>
    <parent link="l_elbow"/>
    <child link="l_lowerarm"/>
    <axis xyz="0.0 1.0 0.0"/>
    <limit effort="1.373" lower="-2.094395102" upper="0.5235987756" velocity="7.4800"/>
  </joint>
  <joint name="l_hipjoint_yaw" type="revolute">
    <origin rpy="0 0 0" xyz="0 0.02170 0"/>
    <parent link="base_link"/>
    <child link="l_hipjointupper"/>
    <axis xyz="0.0 0.0 1.0"/>
    <limit effort="1.373" lower="-0.3490658504" upper="0.3490658504" velocity="7.4800"/>
  </joint>
  <joint name="l_hipjoint_roll" type="revolute">
    <origin rpy="0 0 0" xyz="0.0167 -0.004 -0.02275"/>
    <parent link="l_hipjointupper"/>
    <child link="l_hipjointlower"/>
    <axis xyz="1.0 0.0 0.0"/>
    <limit effort="1.373" lower="-0.3490658504" upper="0.436332313" velocity="7.4800"/>
  </joint>
  <joint name="l_hipjoint_pitch" type="revolute">
    <origin rpy="0 0 0" xyz="-0.01625 0.0275 -0.0395"/>
    <parent link="l_hipjointlower"/>
    <child link="l_upperleg"/>
    <axis xyz="0.0 1.0 0.0"/>
    <limit effort="1.373" lower="-1.919862177" upper="0.523599" velocity="7.4800"/>
  </joint>
  <joint name="l_knee_pitch" type="revolute">
    <origin rpy="0 0 0" xyz="0.0 0.0 -0.065"/>
    <parent link="l_upperleg"/>
    <child link="l_lowerleg"/>
    <axis xyz="0.0 1.0 0.0"/>
    <limit effort="1.373" lower="0.0" upper="2.792526803" velocity="7.4800"/>
  </joint>
  <joint name="l_ankle_pitch" type="revolute">
    <origin rpy="0 0 0" xyz="-0.003363 0.0005 -0.064913"/>
    <parent link="l_lowerleg"/>
    <child link="l_ankle"/>
    <axis xyz="0.0 1.0 0.0"/>
    <limit effort="1.373" lower="-1.5707963267948966" upper="1.745329252" velocity="7.4800"/>
  </joint>
  <joint name="l_ankle_roll" type="revolute">
    <origin rpy="0 0 0" xyz="0.01975 -0.028 -0.0395"/>
    <parent link="l_ankle"/>
    <child link="l_foot"/>
    <axis xyz="1.0 0.0 0.0"/>
    <limit effort="1.373" lower="-0.5235987756" upper="0.3490658504" velocity="8.0554"/>
  </joint>
  <joint name="c_head_yaw" type="revolute">
    <origin rpy="0 0 0" xyz="0.0115 0.0 0.0595"/>
    <parent link="c_chest_c"/>
    <child link="c_head_a"/>
    <axis xyz="0.0 0.0 1.0"/>
    <limit effort="1.373" lower="-1.5707963267948966" upper="1.5707963267948966" velocity="7.4800"/>
  </joint>
  <joint name="r_shoulder_pitch" type="revolute">
    <origin rpy="0 0 0" xyz="0.0115 -0.0489 0.04775"/>
    <parent link="c_chest_c"/>
    <child link="r_shoulder"/>
    <axis xyz="0.0 1.0 0.0"/>
    <limit effort="1.373" lower="-2.443461" upper="2.443461" velocity="7.4800"/>
  </joint>
  <joint name="r_shoulder_roll" type="revolute">
    <origin rpy="0 0 0" xyz="0.01575 -0.025 0.0"/>
    <parent link="r_shoulder"/>
    <child link="r_upperarm"/>
    <axis xyz="1.0 0.0 0.0"/>
    <limit effort="1.373" lower="-3.141592654" upper="0.0872664626" velocity="7.4800"/>
  </joint>
  <joint name="r_elbow_yaw" type="revolute">
    <origin rpy="0 0 0" xyz="-0.016 0.0 -0.07175"/>
    <parent link="r_upperarm"/>
    <child link="r_elbow"/>
    <axis xyz="0.0 0.0 1.0"/>
    <limit effort="1.373" lower="-1.5707963267948966" upper="1.5707963267948966" velocity="7.4800"/>
  </joint>
  <joint name="r_elbow_pitch" type="revolute">
    <origin rpy="0 0 0" xyz="0.0115 -0.01625 -0.0145"/>
    <parent link="r_elbow"/>
    <child link="r_lowerarm"/>
    <axis xyz="0.0 1.0 0.0"/>
    <limit effort="1.373" lower="-2.094395102" upper="0.5235987756" velocity="7.4800"/>
  </joint>
  <joint name="r_hipjoint_yaw" type="revolute">
    <origin rpy="0 0 0" xyz="0 -0.02170 0"/>
    <parent link="base_link"/>
    <child link="r_hipjointupper"/>
    <axis xyz="0.0 0.0 1.0"/>
    <limit effort="1.373" lower="-0.3490658504" upper="0.3490658504" velocity="7.4800"/>
  </joint>
  <joint name="r_hipjoint_roll" type="revolute">
    <origin rpy="0 0 0" xyz="0.0167 0.004 -0.02275"/>
    <parent link="r_hipjointupper"/>
    <child link="r_hipjointlower"/>
    <axis xyz="1.0 0.0 0.0"/>
    <limit effort="1.373" lower="-0.436332313" upper="0.3490658504" velocity="7.4800"/>
  </joint>
  <joint name="r_hipjoint_pitch" type="revolute">
    <origin rpy="0 0 0" xyz="-0.01625 -0.0275 -0.0395"/>
    <parent link="r_hipjointlower"/>
    <child link="r_upperleg"/>
    <axis xyz="0.0 1.0 0.0"/>
    <limit effort="1.373" lower="-1.919862177" upper="0.523599" velocity="7.4800"/>
  </joint>
  <joint name="r_knee_pitch" type="revolute">
    <origin rpy="0 0 0" xyz="0.0 0.0 -0.065"/>
    <parent link="r_upperleg"/>
    <child link="r_lowerleg"/>
    <axis xyz="0.0 1.0 0.0"/>
    <limit effort="1.373" lower="0.0" upper="2.792526803" velocity="7.4800"/>
  </joint>
  <joint name="r_ankle_pitch" type="revolute">
    <origin rpy="0 0 0" xyz="-0.003363 -0.0005 -0.064913"/>
    <parent link="r_lowerleg"/>
    <child link="r_ankle"/>
    <axis xyz="0.0 1.0 0.0"/>
    <limit effort="1.373" lower="-1.5707963267948966" upper="1.745329252" velocity="7.4800"/>
  </joint>
  <joint name="r_ankle_roll" type="revolute">
    <origin rpy="0 0 0" xyz="0.01975 0.028 -0.0395"/>
    <parent link="r_ankle"/>
    <child link="r_foot"/>
    <axis xyz="1.0 0.0 0.0"/>
    <limit effort="1.373" lower="-0.3490658504" upper="0.5235987756" velocity="8.0554"/>
  </joint>
</robot>
